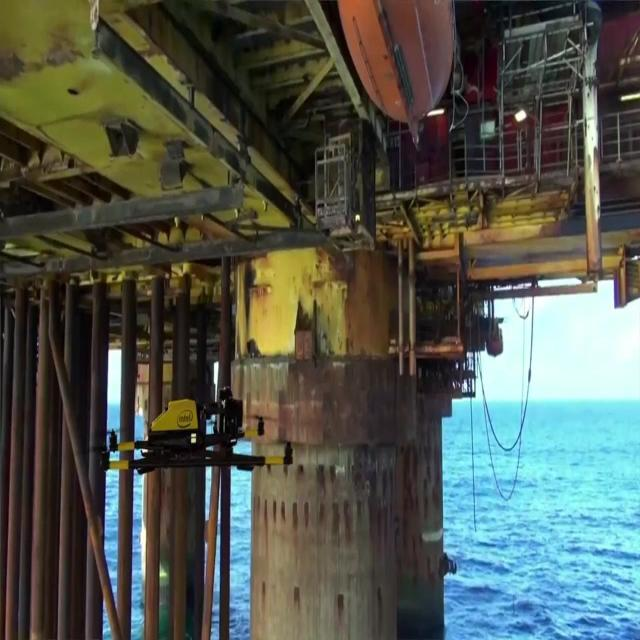drone: (100, 382, 294, 483)
